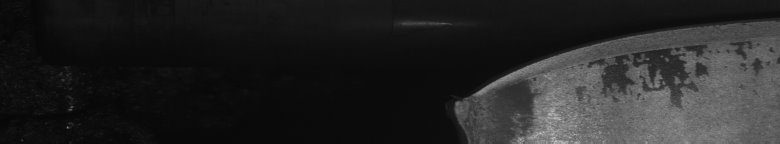kb: (504, 0, 776, 144)
